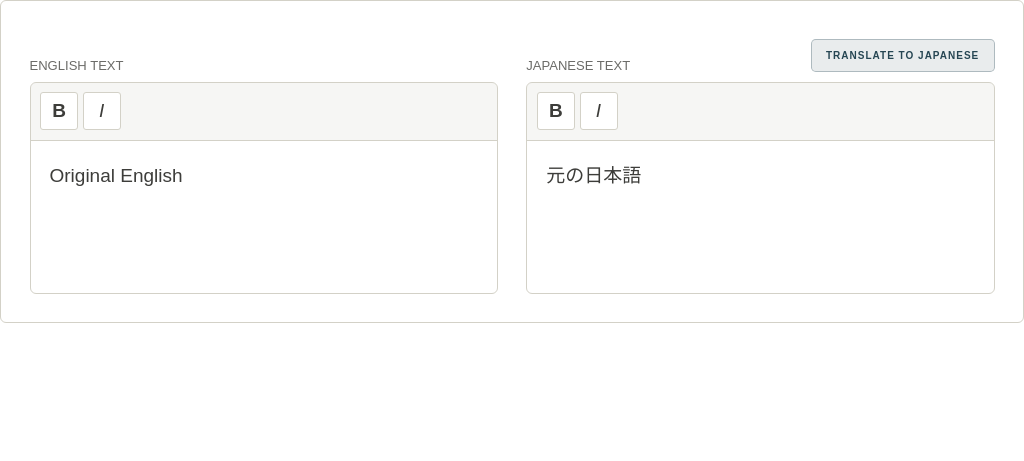
BilingualInput translation review notice › shows, dismisses, and redisplays the notice after manual English edits
The image size is (1024, 461).
Expected: the text "⚠ The English text was changed. Please review the Japanese text." is not shown
Clear the field named "English Text" at (116, 175), box x1=50 y1=165 x2=183 y2=186
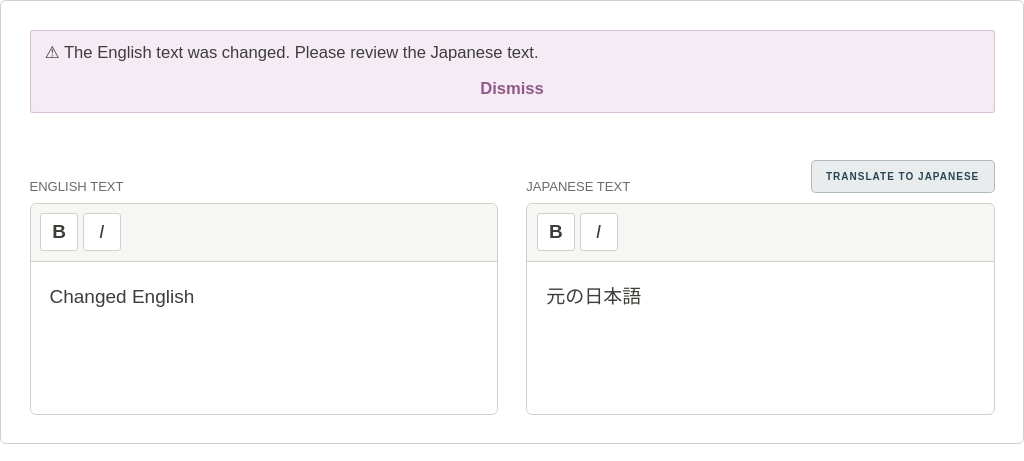
Result: the text "⚠ The English text was changed. Please review the Japanese text." is shown at x1=45 y1=43 x2=539 y2=62
Click the button with aria-label "Dismiss English text change notice" at (512, 89), box x1=471 y1=76 x2=553 y2=102
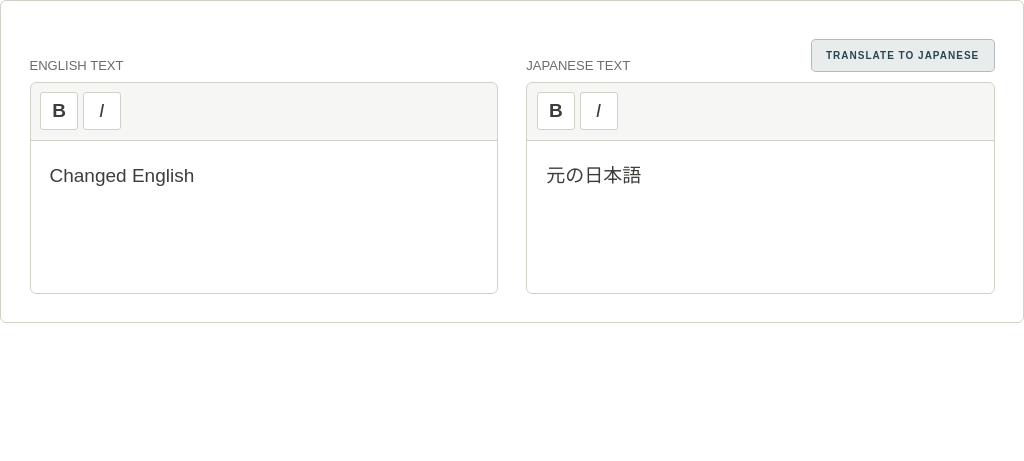
Result: the text "⚠ The English text was changed. Please review the Japanese text." is gone
Clear the field named "English Text" at (122, 175), box x1=50 y1=165 x2=194 y2=186
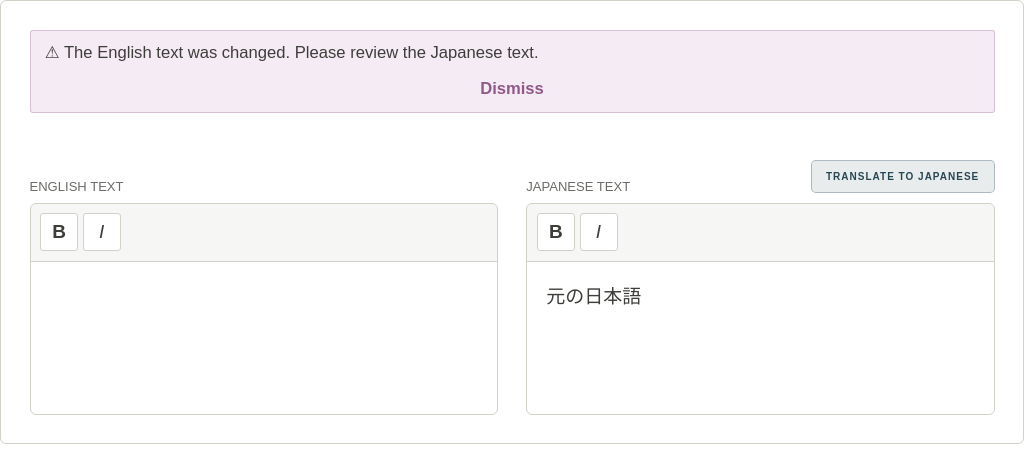
Result: the text "⚠ The English text was changed. Please review the Japanese text." is shown at x1=45 y1=43 x2=539 y2=62
